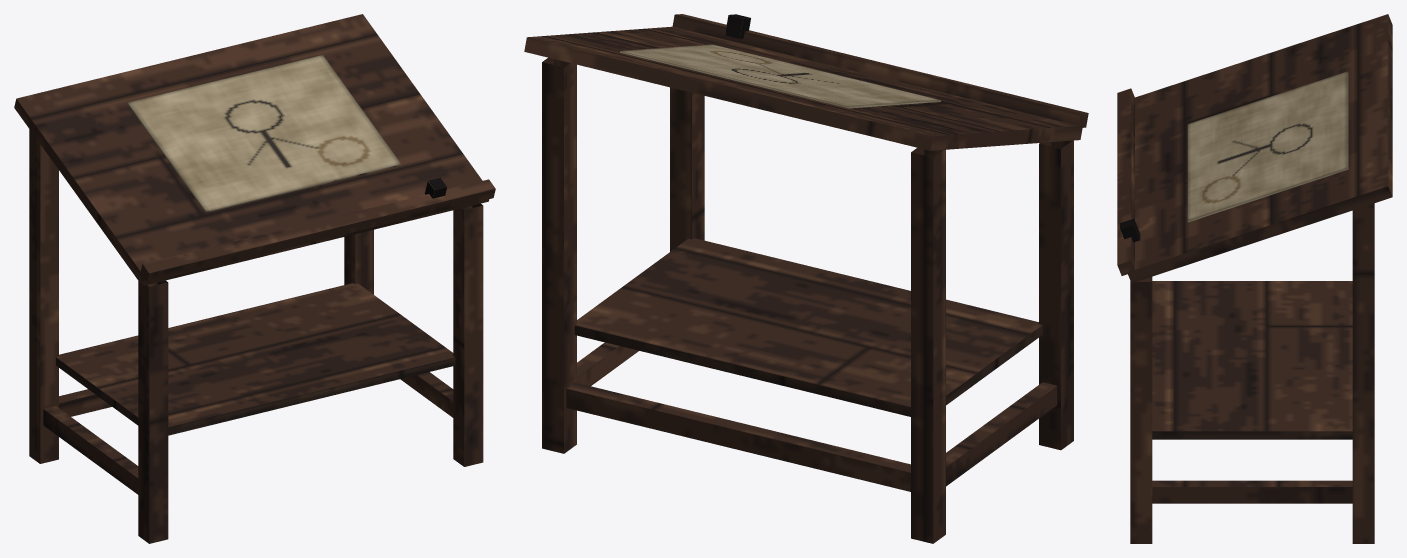
File: Furn_Table_Drawing.fbx
The picture shows the model from 3 angles, left to right: view 1: azimuth 30°, elevation 25°; view 2: azimuth 150°, elevation 25°; view 3: azimuth 270°, elevation 25°; orthographic projection. The views are drawn at different scales.
Visible parts, largest first — view 1: Furn_Table_Drawing; view 2: Furn_Table_Drawing; view 3: Furn_Table_Drawing.
Part boxes in pixels (x1,y1,x2,y2): Furn_Table_Drawing: [14, 14, 495, 543]; Furn_Table_Drawing: [524, 14, 1088, 543]; Furn_Table_Drawing: [1117, 14, 1392, 543].
Bounding box in the file's own units: 1.1 × 1.07 × 0.7431.
